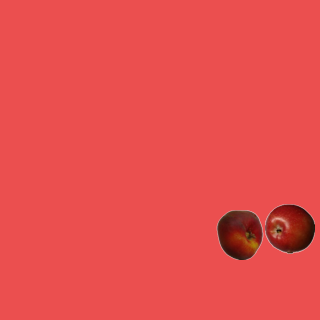Apple Braeburn: (264, 203, 314, 253)
Nectarine Flat: (214, 209, 264, 259)
